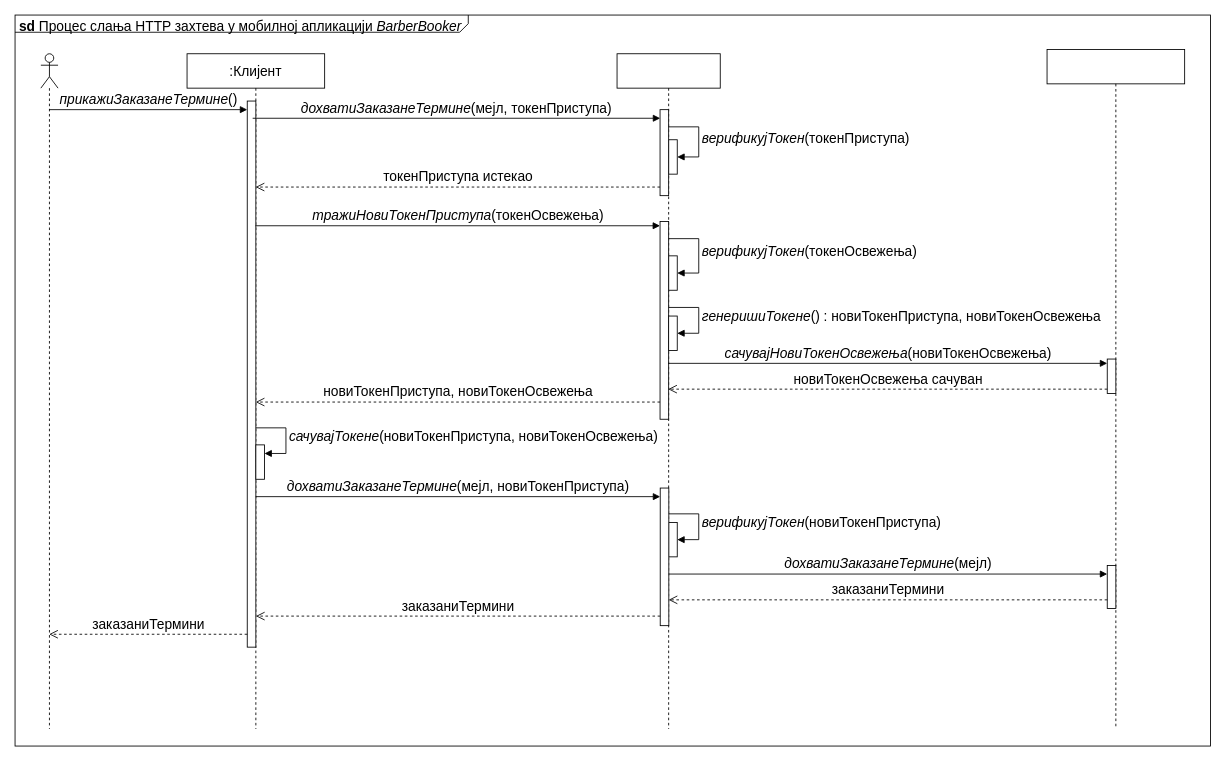
Image size: 1226x761. Some labels were removed from this diagram. The shapes that lost their labels are listed below. From the top down, each one's centre as x and y in pixels, then its label:
the point at 668,391: :Сервер
the point at 1115,389: :База података
